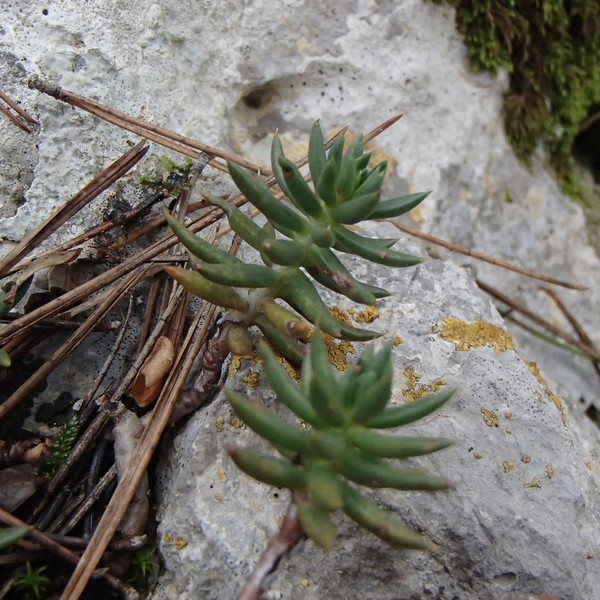obstacle: (193, 110, 435, 540)
